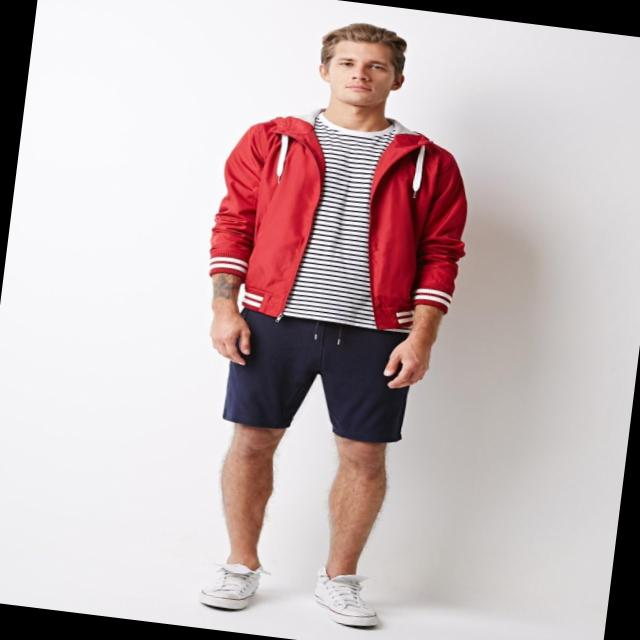Jacket: (196, 92, 488, 338)
